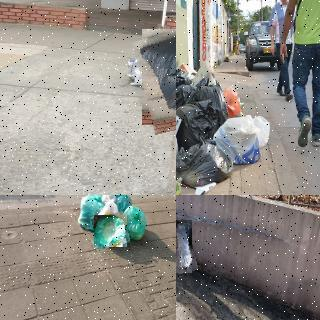Garbage: (137, 23, 176, 130), (215, 115, 273, 165), (176, 141, 237, 188), (176, 99, 221, 144), (93, 213, 129, 249), (76, 195, 104, 232), (176, 219, 195, 273), (122, 205, 147, 241), (97, 199, 120, 225), (115, 195, 131, 214), (100, 195, 118, 205)
